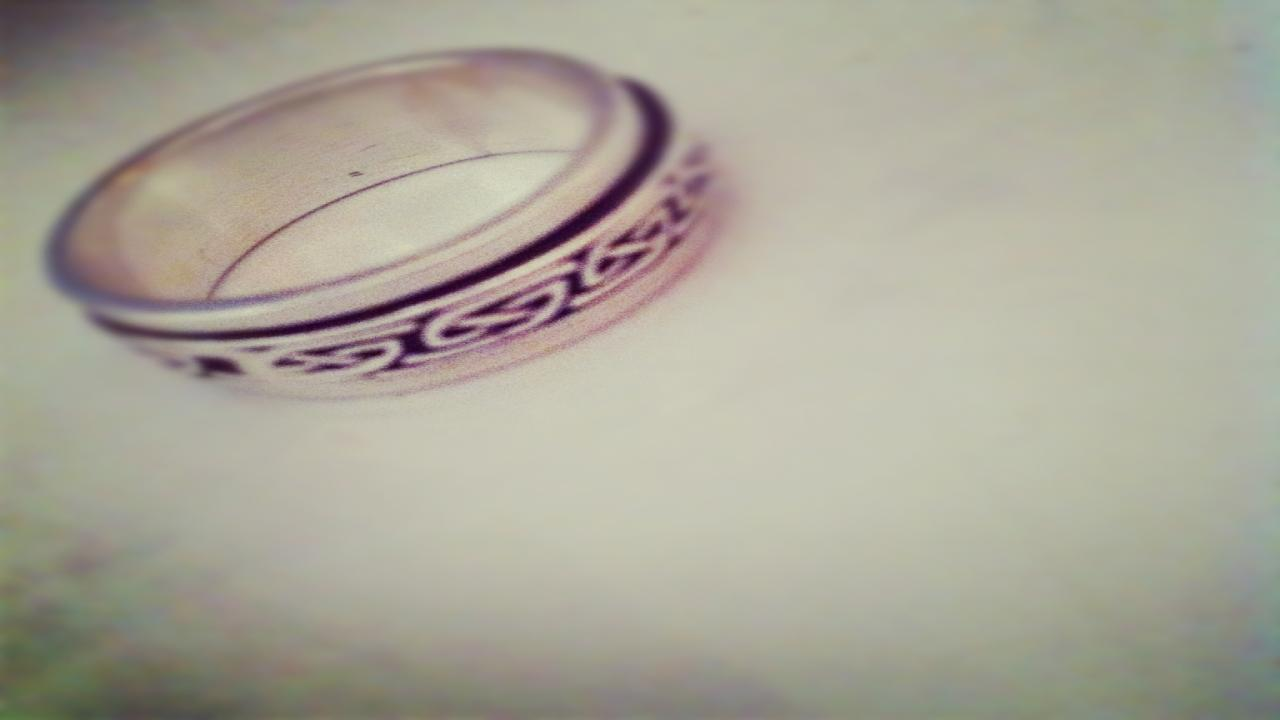ring: (45, 47, 734, 398)
